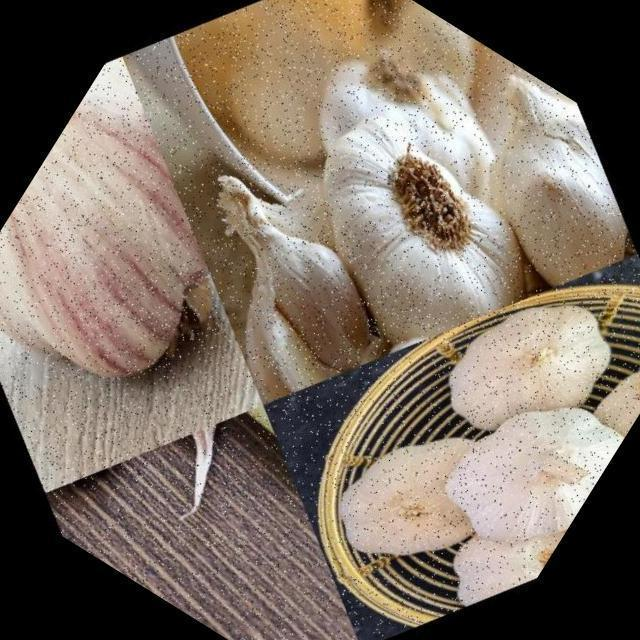garlic: (223, 26, 610, 409), (0, 48, 329, 492), (115, 114, 452, 445), (376, 42, 640, 336), (284, 368, 547, 634), (391, 228, 640, 501), (395, 326, 640, 592), (418, 439, 590, 632), (528, 313, 640, 491)
